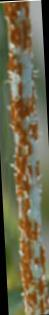Wheat: (5, 4, 46, 189), (3, 187, 49, 312)
